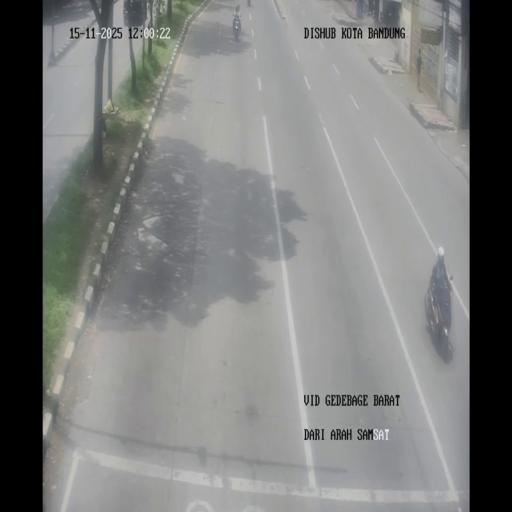motorcycle: (424, 269, 454, 362), (232, 10, 241, 42), (368, 0, 375, 18), (362, 0, 369, 17), (379, 10, 383, 23)
